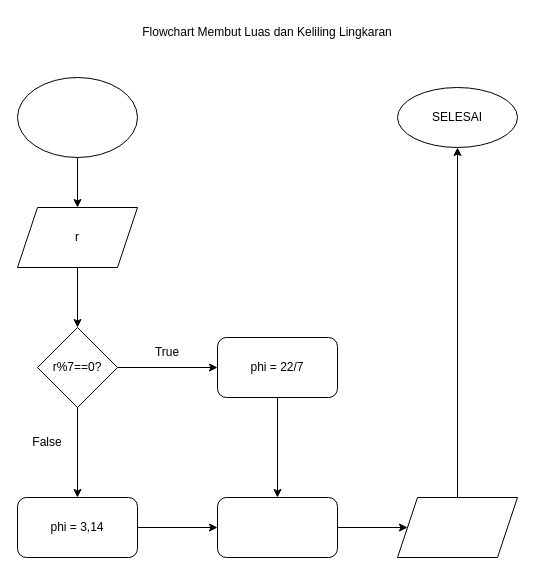
Image size: 535x575. Some labels were removed from this diagram. Here are the shapes that lost their labels. From the top down, the centre of each, then its label:
point (77, 117): MULAI
point (277, 527): Luas = phi * r * r Keliling = 2 * phi * r
point (457, 527): print Luas print Keliling
